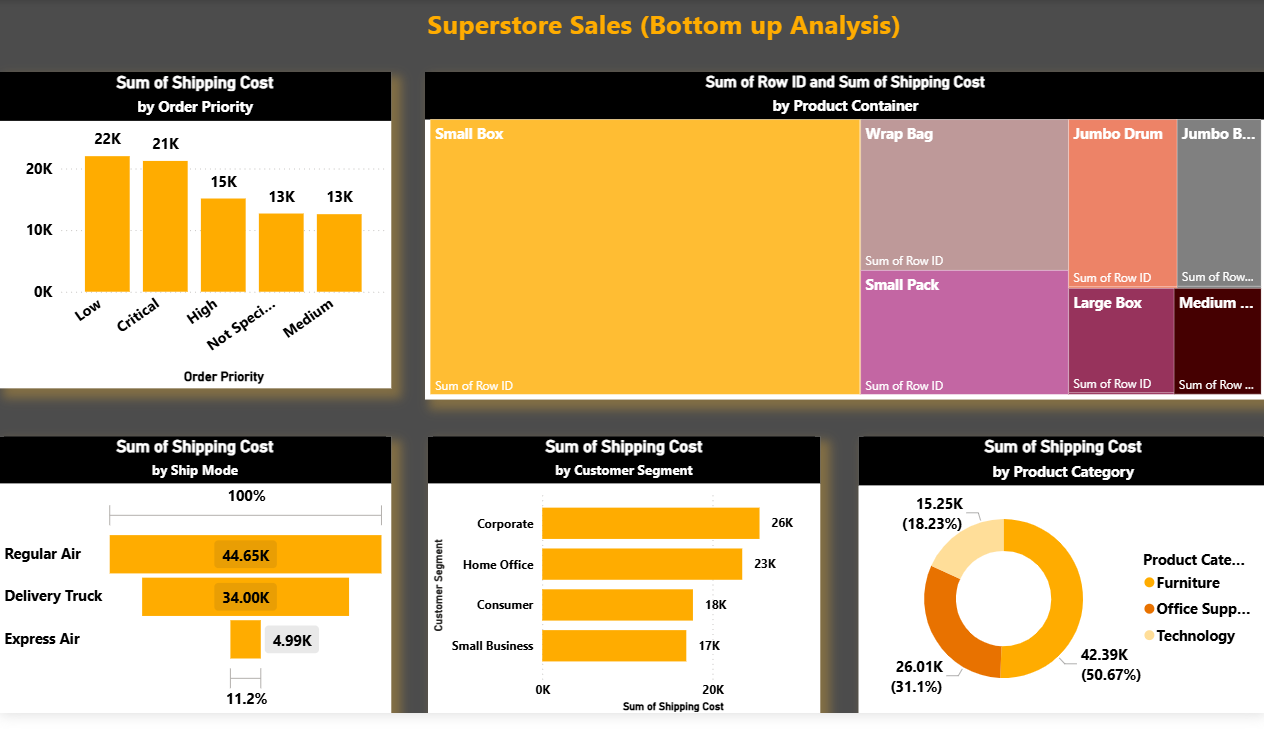

Layout of this report page (visuals, bound fields, positions):
{"tool":"powerbi","page":{"name":"bottom_up_Analysis/filtering","canvas":[1280,720],"ordinal":1},"visuals":[{"type":"columnChart","fields":{"Category":["Orders.Order Priority"],"Y":["Sum(Orders.Shipping Cost)"]},"box":[0,73.1,395.8,319.5],"z":0},{"type":"funnel","fields":{"Category":["Orders.Ship Mode"],"Y":["Sum(Orders.Shipping Cost)"]},"box":[0,440.3,395.8,281.3],"z":1000},{"type":"treemap","fields":{"Group":["Orders.Product Container"],"Values":["Sum(Orders.Row ID)","Sum(Orders.Shipping Cost)"]},"box":[430.7,73.1,848.7,330.6],"z":2000},{"type":"donutChart","fields":{"Y":["Sum(Orders.Shipping Cost)"],"Category":["Orders.Product Category"]},"box":[867.8,440.3,413.2,282.9],"z":3000},{"type":"barChart","fields":{"Category":["Orders.Customer Segment"],"Y":["Sum(Orders.Shipping Cost)"]},"box":[432.3,440.3,395.8,282.9],"z":4000},{"type":"textbox","box":[199,0,946.5,89],"z":5000}]}

Visuals, with their boxes in screenshot pixels (x1, y1, x2, y2), scaled from the page's 1280x720 canvas onto the 1264x729 screenshot:
columnChart - Orders.Order Priority x Sum(Orders.Shipping Cost): (0,74,391,398)
funnel - Orders.Ship Mode x Sum(Orders.Shipping Cost): (0,446,391,728)
treemap - Orders.Product Container x Sum(Orders.Row ID): (425,74,1263,409)
donutChart - Sum(Orders.Shipping Cost) x Orders.Product Category: (857,446,1263,728)
barChart - Orders.Customer Segment x Sum(Orders.Shipping Cost): (427,446,818,728)
textbox: (197,0,1131,90)
